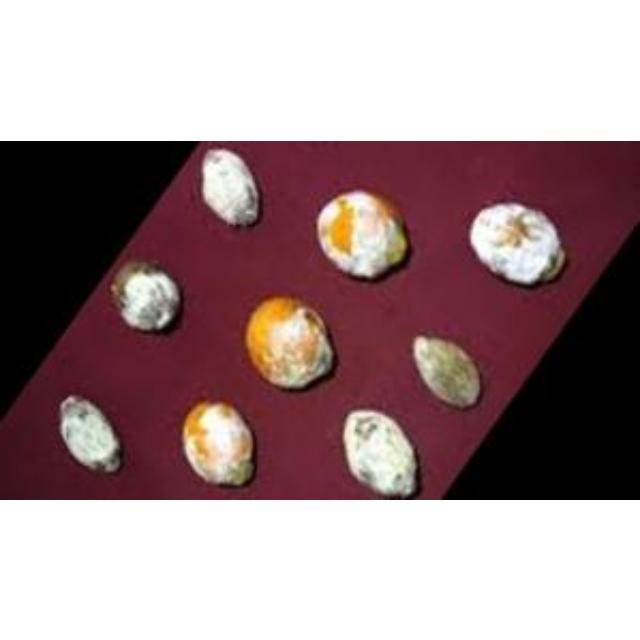damaged: (246, 294, 338, 393), (319, 187, 413, 283), (469, 200, 569, 290), (338, 408, 424, 497), (182, 399, 257, 489), (411, 333, 486, 412), (56, 395, 128, 476), (109, 262, 186, 335), (201, 149, 265, 226)
